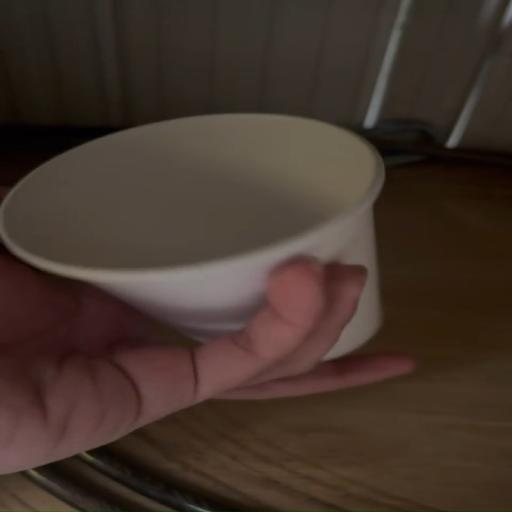Ly_giay: (0, 113, 383, 358)
